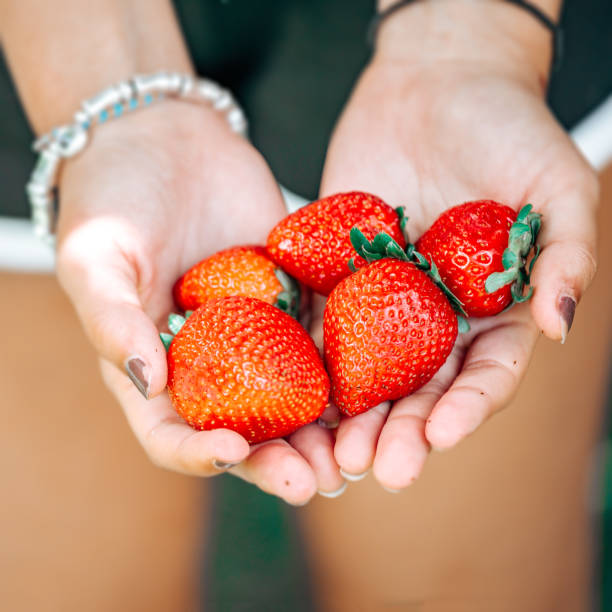Fresa: (162, 290, 334, 450), (319, 250, 466, 418), (408, 189, 533, 325), (261, 186, 408, 301), (166, 237, 311, 336)
